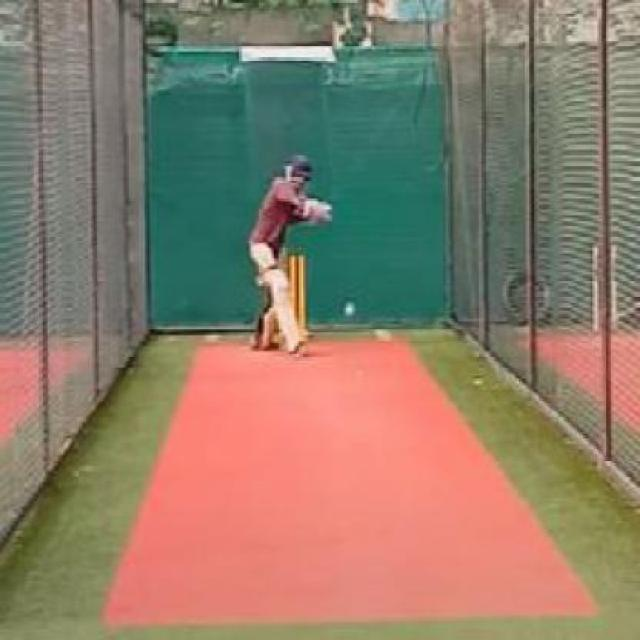ball: (342, 297, 356, 321)
